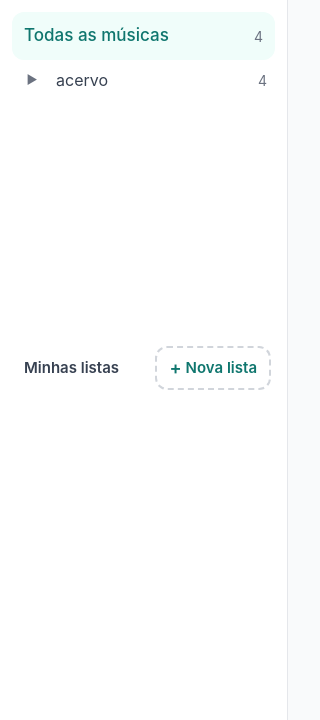
Test: Sidebar — árvore de pastas recolhível, como um explorador (V12) › clicar na seta abre; clicar de novo fecha — e some com os filhos
Later steps or results of the test are not shown.
Click the button named "Abrir pasta acervo" at (32,80), box [14,60,50,100]
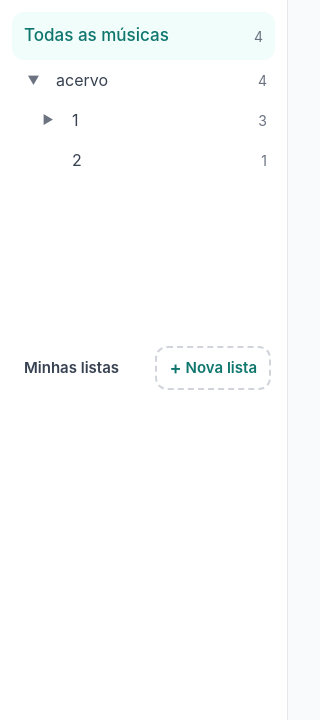
Check: the button named "Pasta 1" is shown, box [68,100,267,140]
